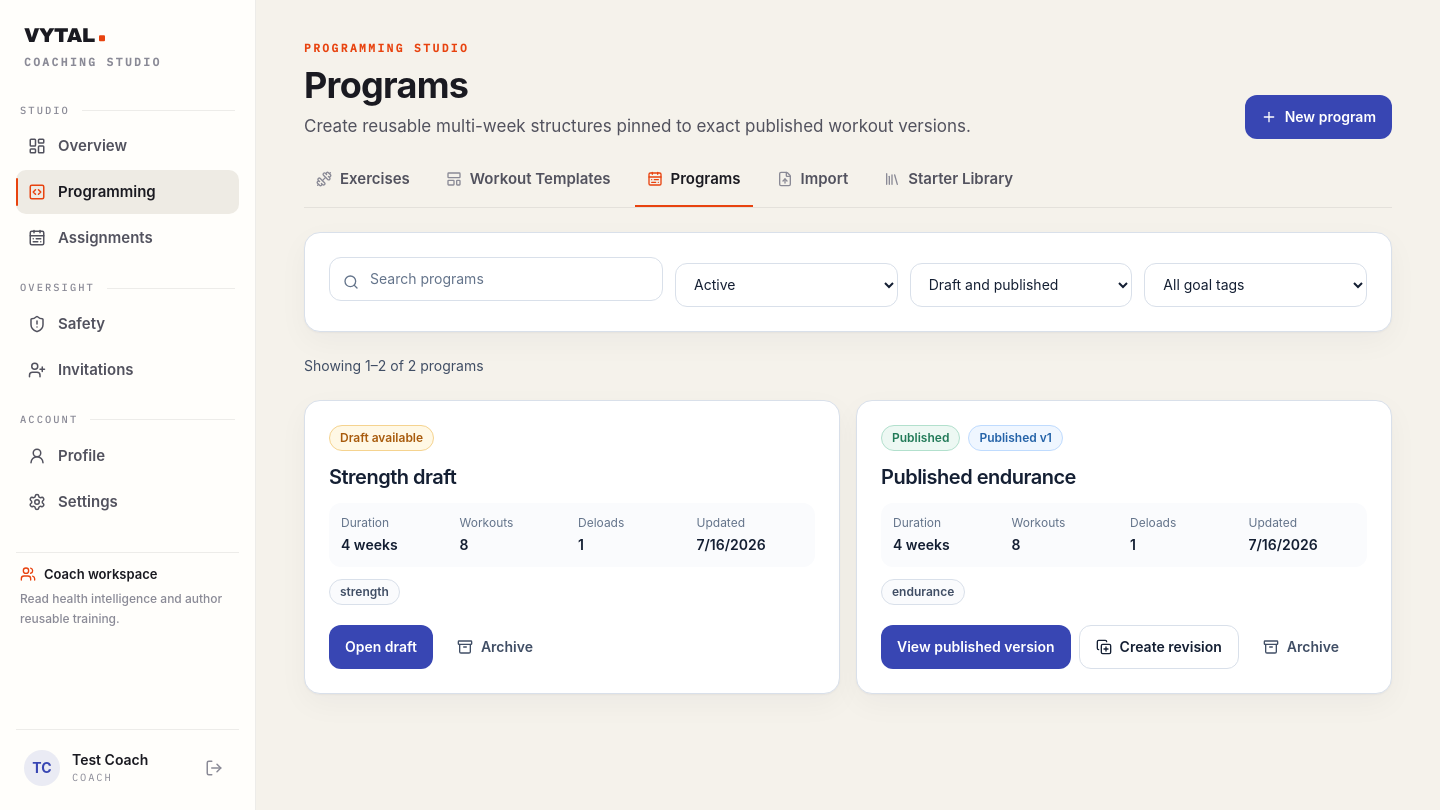
Test: Program library › filters programs by publication and goal and renders bounded summaries
This screenshot has width=1440, height=810.
Expected: the heading "Strength draft" is shown, [329,465,456,489]
Expected: the heading "Published endurance" is shown, [881,465,1076,489]
Select "Has draft" in the dropdown named "Publication status" at (1021, 285), box [910,263,1132,307]
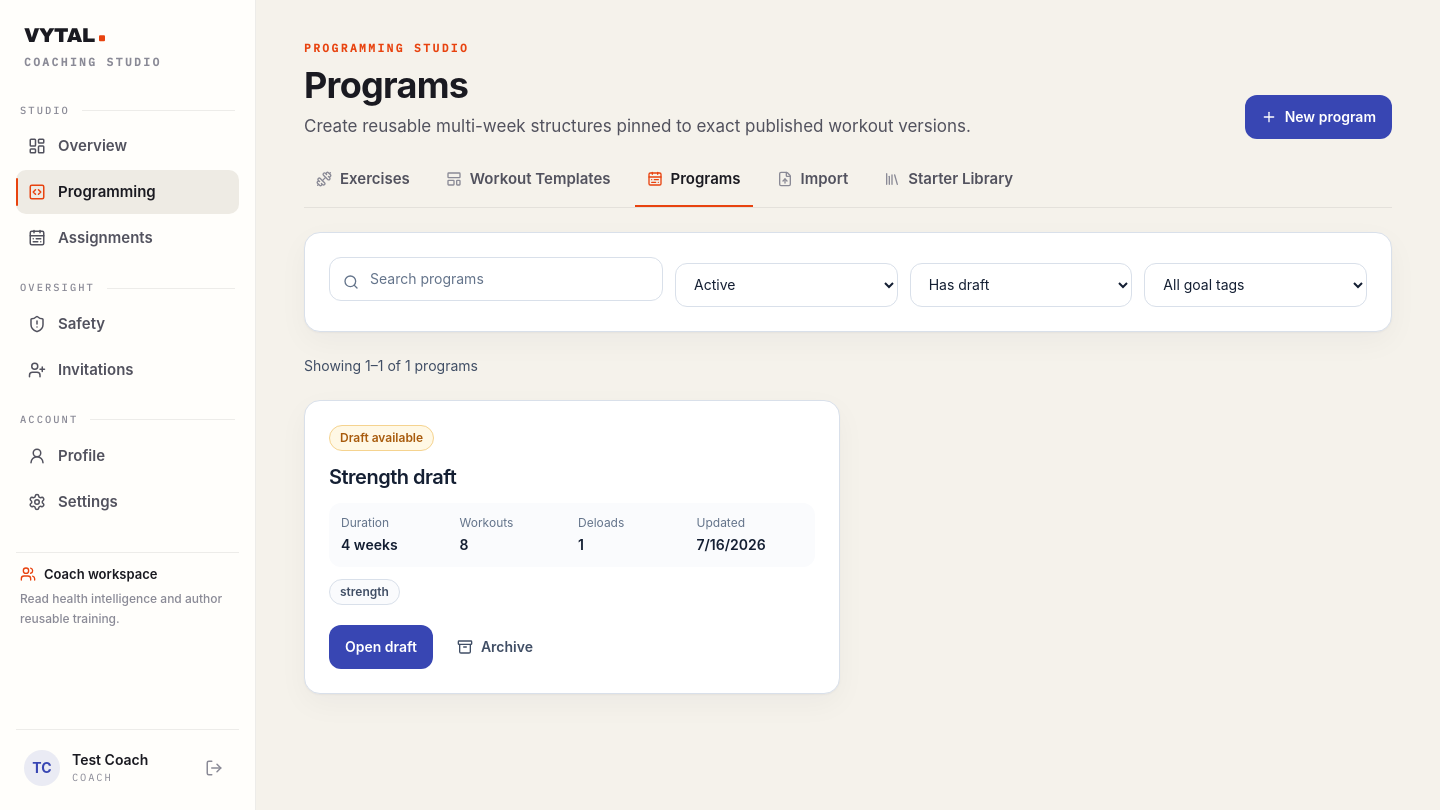
Expected: the heading "Strength draft" is shown, [329,465,456,489]
Expected: the heading "Published endurance" is gone
Select "endurance" in the dropdown named "Goal tag" at (1256, 285), box [1144,263,1367,307]
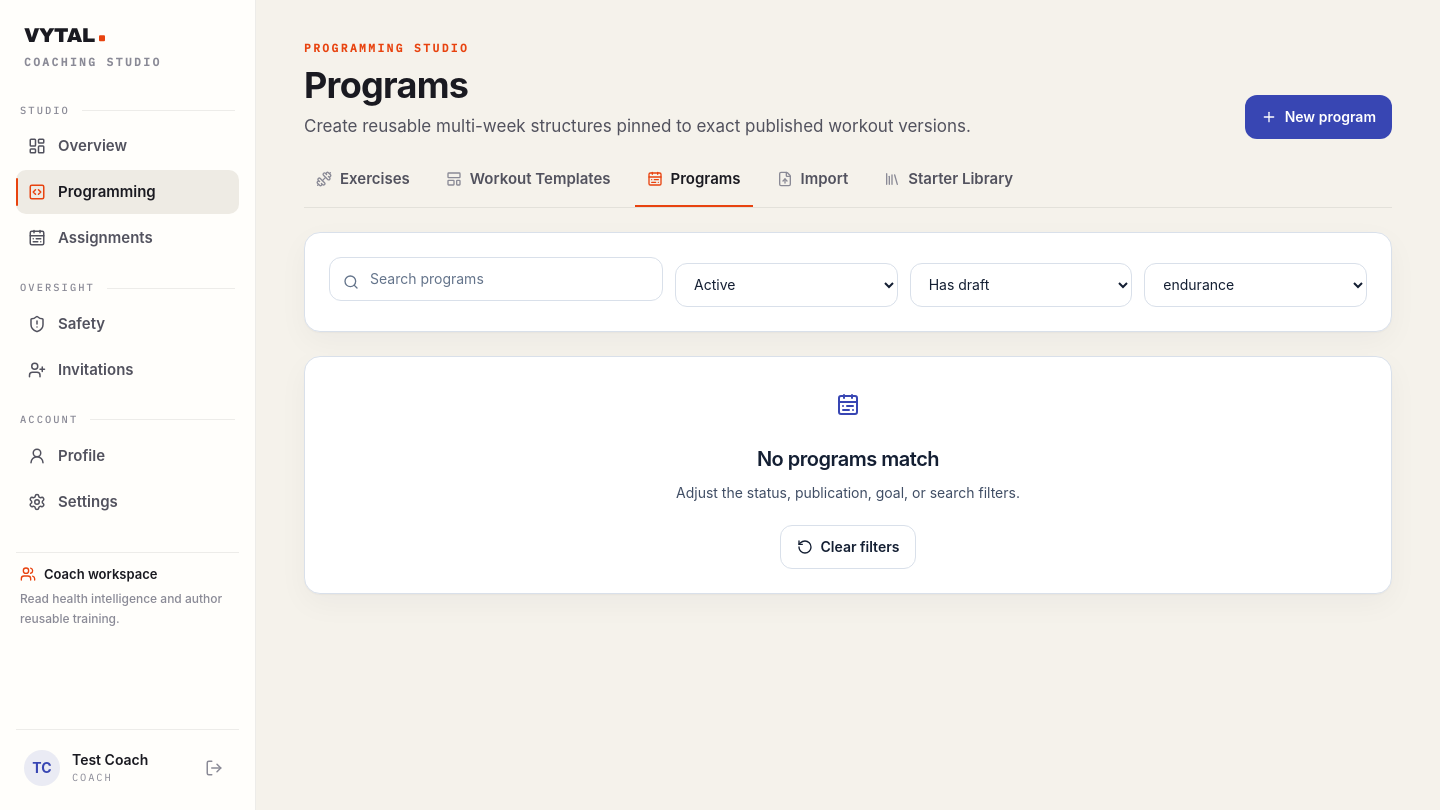
Expected: the heading "No programs match" is shown, [757,447,939,471]
